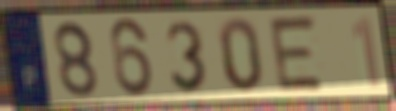0: (216, 14, 266, 96)
1: (350, 14, 382, 90)
3: (164, 18, 208, 95)
6: (108, 16, 154, 99)
8: (52, 19, 100, 99)
E: (267, 13, 327, 94)
